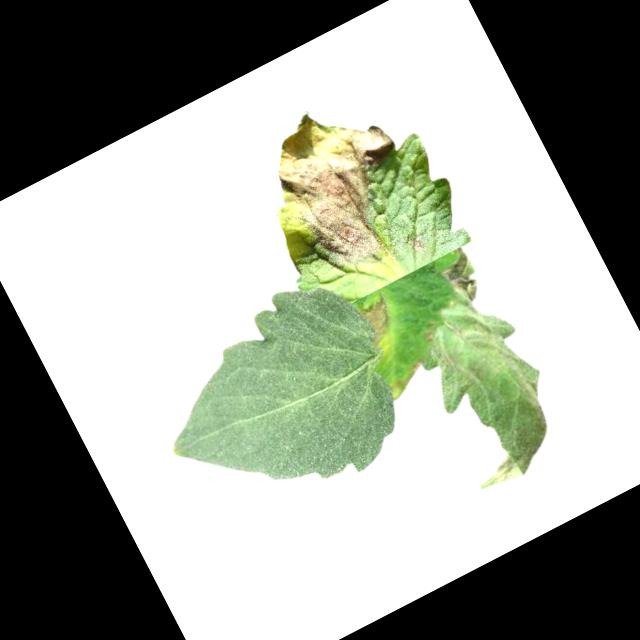Late_blight: (395, 265, 599, 498), (232, 79, 438, 293), (436, 244, 492, 307), (355, 297, 402, 348), (406, 230, 429, 255)
